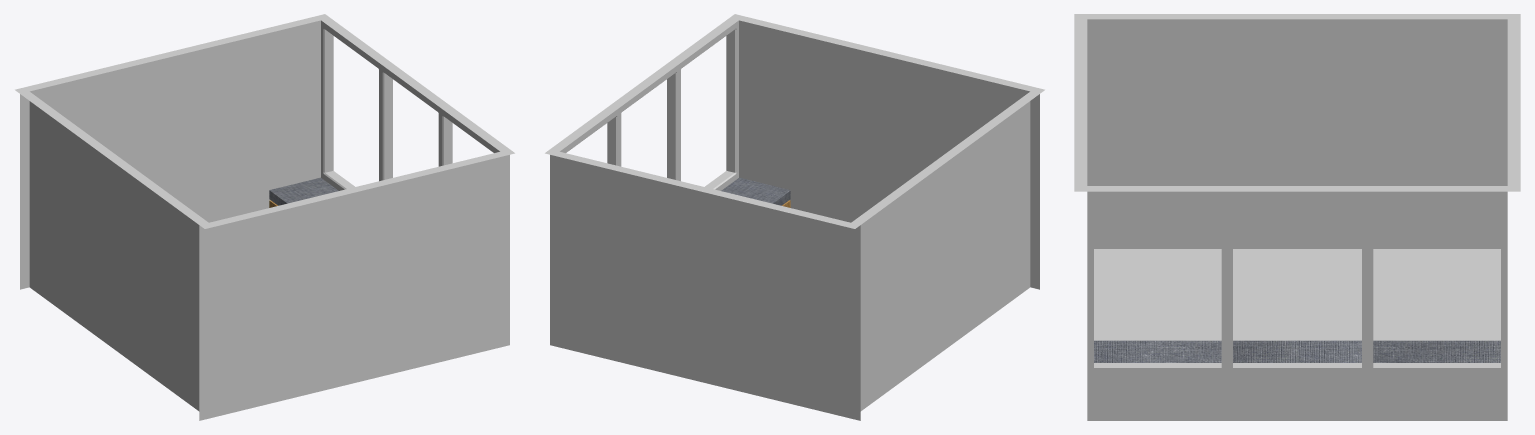
The model's file is WindowWall.fbx.
3 renders of one model, left to right at view 1: azimuth 30°, elevation 25°; view 2: azimuth 150°, elevation 25°; view 3: azimuth 270°, elevation 25°, orthographic. The views are drawn at different scales.
Visible parts, largest first — view 1: Walls, WindowWall2, CushionSeat; view 2: Walls, WindowWall2, CushionSeat; view 3: Walls, WindowWall2, Floor, CushionSeat.
Boxes of the visible parts, bbox=[...] form: Walls: bbox=[15, 14, 514, 420]; WindowWall2: bbox=[321, 18, 509, 190]; CushionSeat: bbox=[269, 177, 338, 207]; Walls: bbox=[545, 14, 1044, 420]; WindowWall2: bbox=[550, 18, 738, 190]; CushionSeat: bbox=[721, 177, 790, 207]; Walls: bbox=[1074, 14, 1520, 248]; WindowWall2: bbox=[1087, 186, 1507, 420]; Floor: bbox=[1094, 249, 1500, 340]; CushionSeat: bbox=[1094, 340, 1500, 362].
Bounding box in the file's own units: 180 × 108 × 191.
